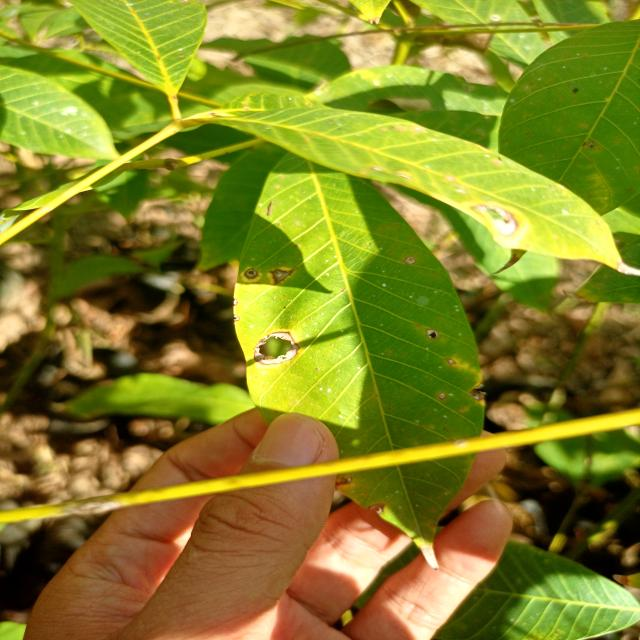Colletotrichum: (245, 268, 258, 280), (425, 329, 439, 339), (404, 256, 415, 265), (447, 358, 455, 365), (438, 393, 446, 399)
Leaf-Blight: (419, 544, 439, 570), (470, 390, 486, 400)
